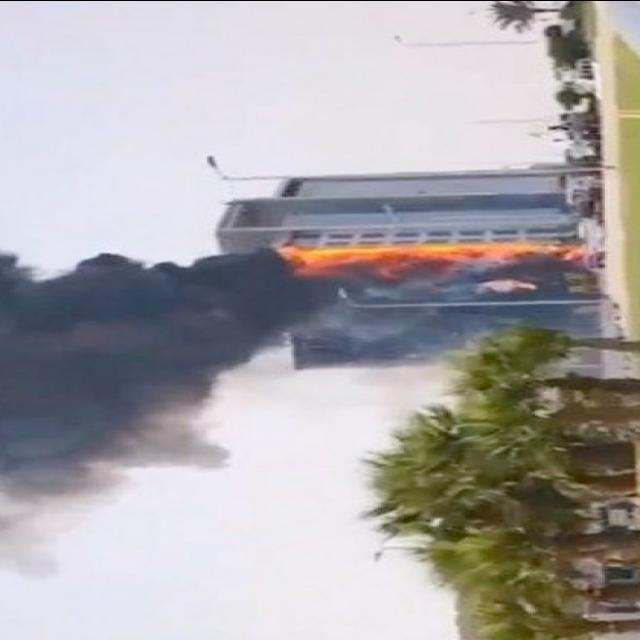Fire: (286, 236, 602, 276)
